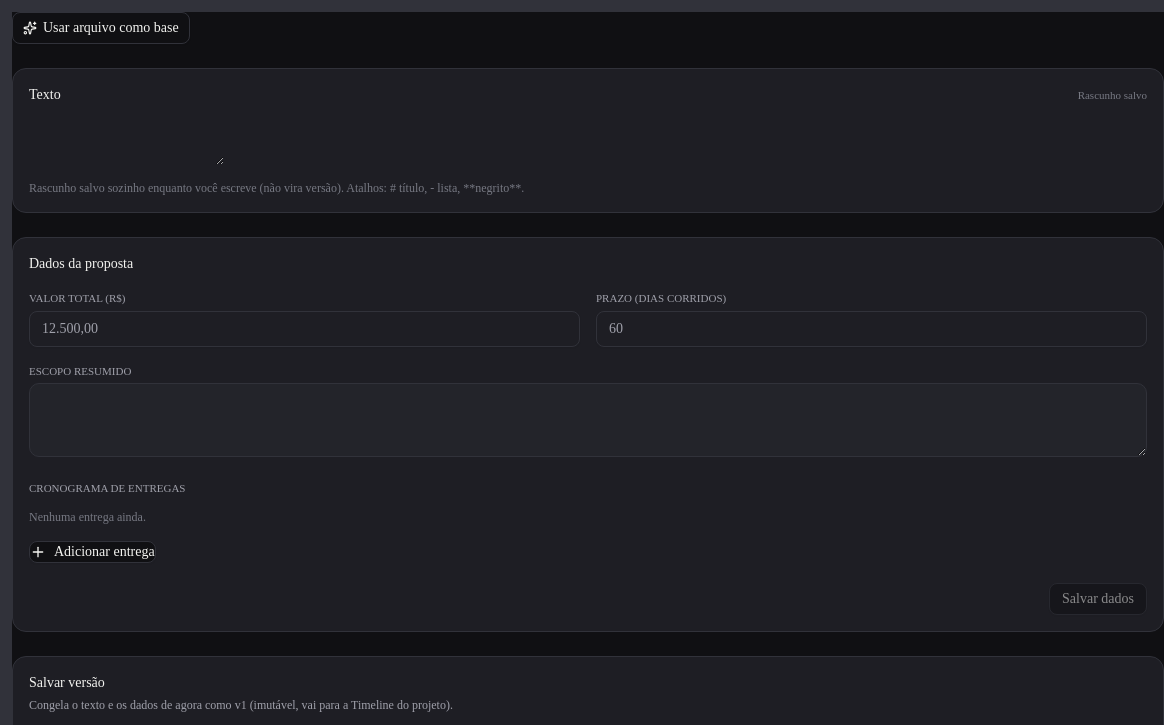
PainelProposta › conflito: avisa quem mexeu, não grava de novo sozinho, e deixa escolher
The width and height of the screenshot is (1164, 725).
Type "meu" into the text box named "texto" at (126, 141), box [29,117,224,165]
Wait 1500 ms
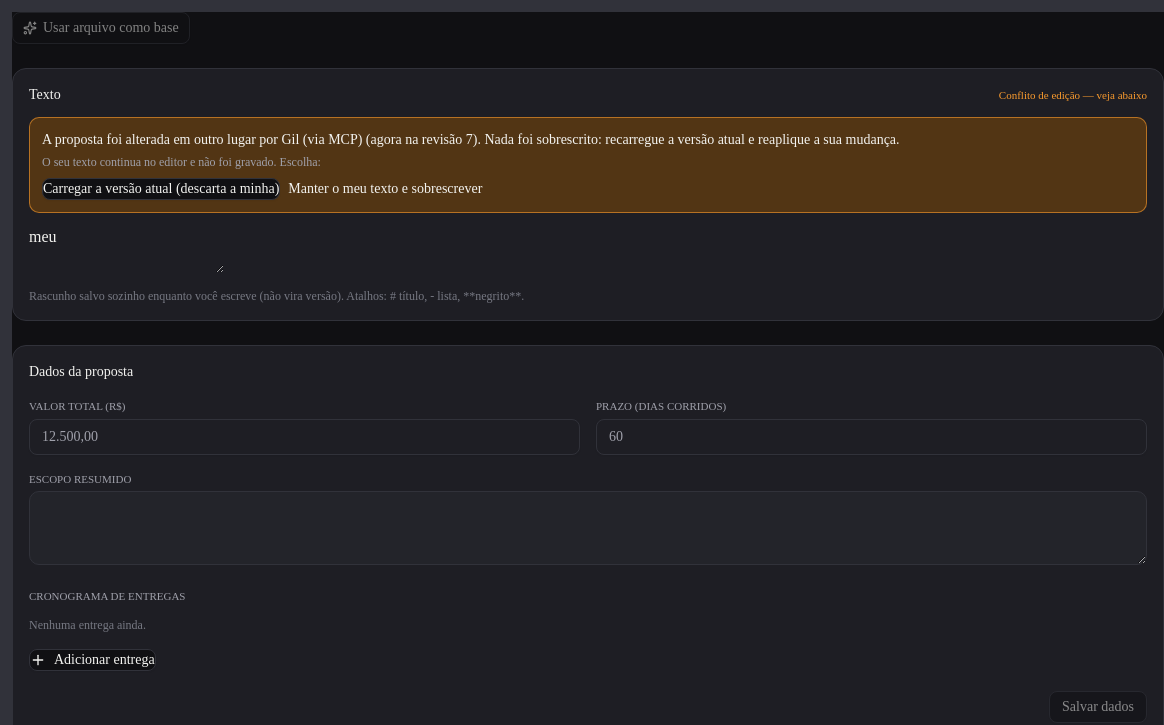
expect the message shows "alterada em outro lugar por Gil (via MCP)": met, box [42,132,900,147]
Replace the text in the text box named "texto" with "meu 2" at (126, 249), box [29,225,224,273]
Wait 5000 ms
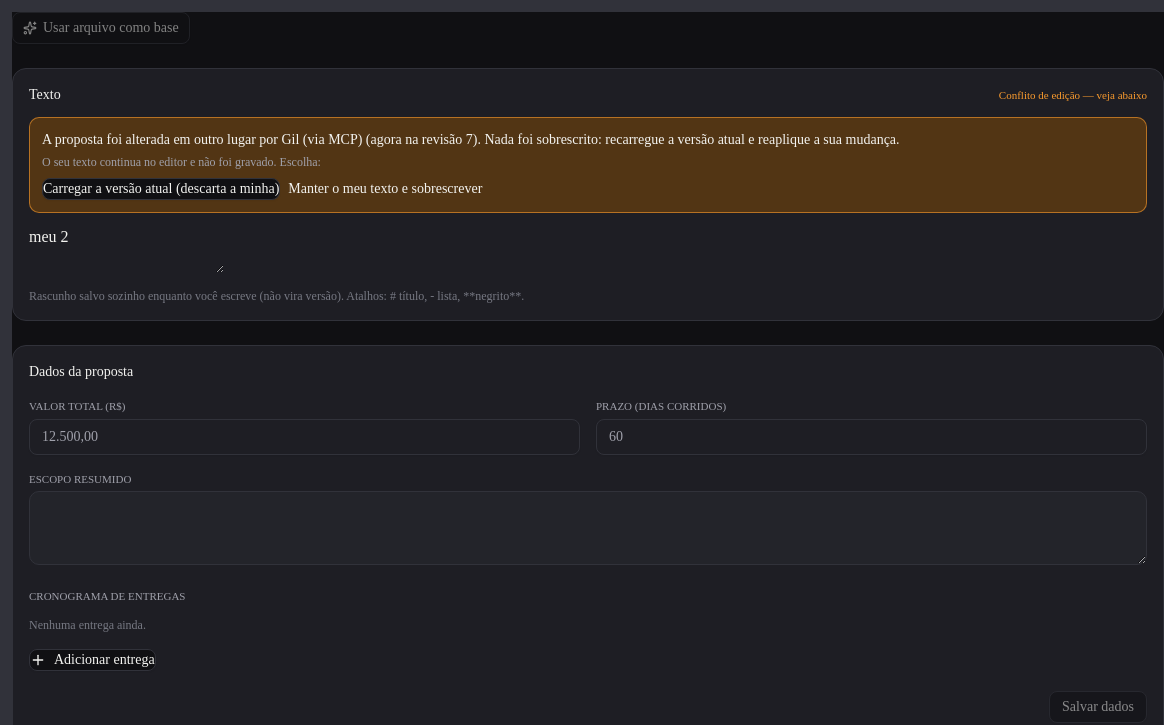
Click the button "Manter o meu texto e sobrescrever" at (385, 189), box [288,178,482,200]
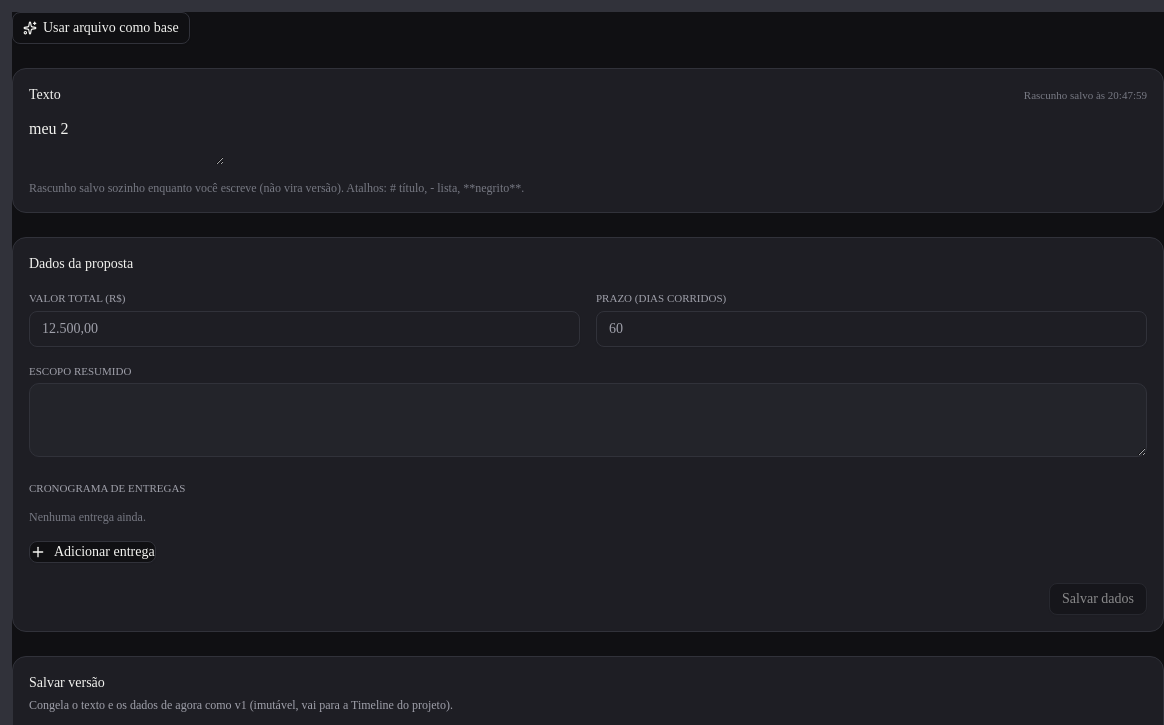
expect the text "alterada em outro lugar" is gone: met
